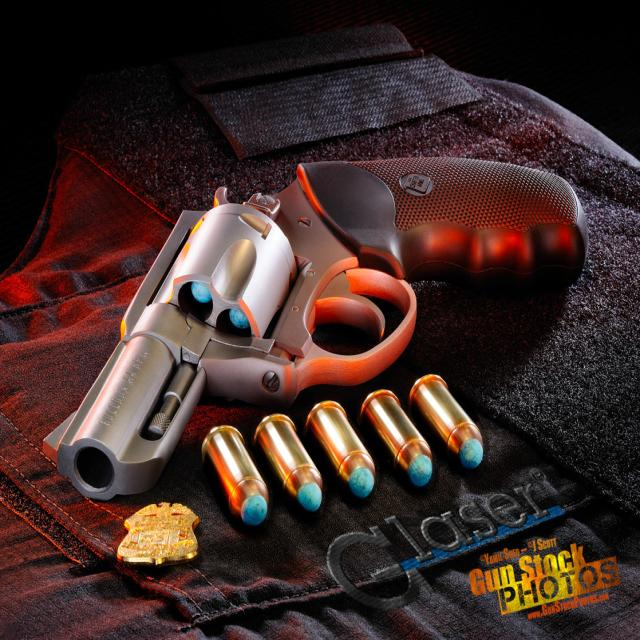Gun: (50, 139, 596, 537)
